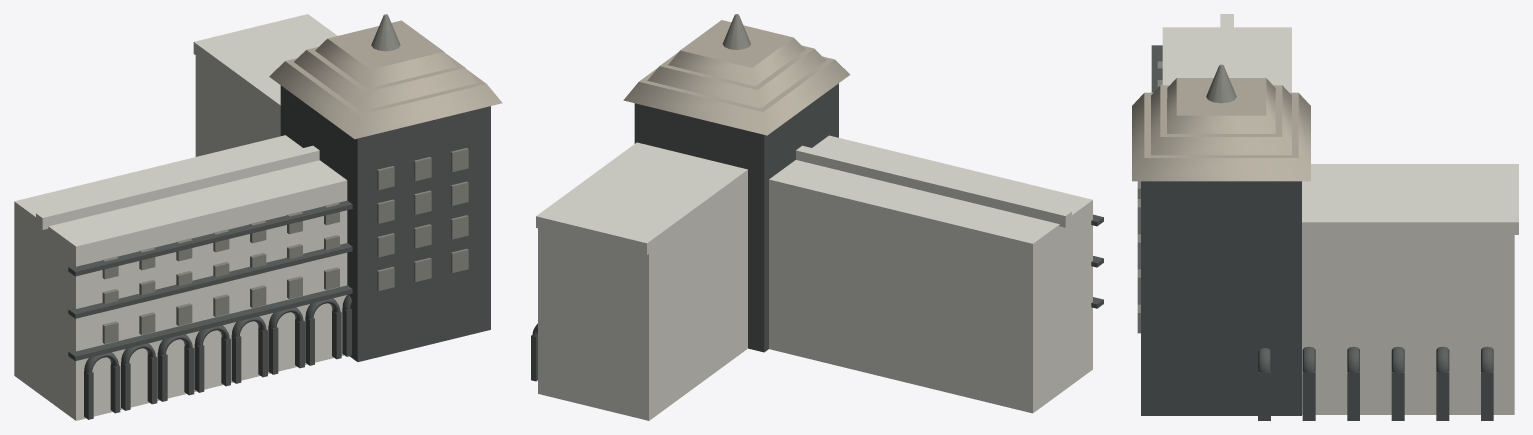
File: eu-court.glb
The picture shows the model from 3 angles, left to right: view 1: azimuth 30°, elevation 25°; view 2: azimuth 150°, elevation 25°; view 3: azimuth 270°, elevation 25°; orthographic projection. The views are drawn at different scales.
Visible parts, largest first — view 1: stamford-road-wing/form, corner-tower/form, roof-parapets/form (×2), corner-pavilion-roof/roof-tier-0, hill-street-wing/form, corner-pavilion-roof/roof-tier-2, corner-pavilion-roof/roof-tier-1, projecting-ledges/ledge-0, projecting-ledges/ledge-2, projecting-ledges/ledge-1, corner-pavilion-roof/finial, ground-arcades/stamford-arch-5-left (+14 smaller); view 2: stamford-road-wing/form, hill-street-wing/form, roof-parapets/form (×2), corner-tower/form, corner-pavilion-roof/roof-tier-0, corner-pavilion-roof/roof-tier-2, corner-pavilion-roof/roof-tier-1, corner-pavilion-roof/finial; view 3: corner-tower/form, hill-street-wing/form, roof-parapets/form (×2), corner-pavilion-roof/roof-tier-0, stamford-road-wing/form, corner-pavilion-roof/roof-tier-2, corner-pavilion-roof/roof-tier-1, corner-pavilion-roof/finial, ground-arcades/hill-arch-1-right, ground-arcades/hill-arch-3-right, ground-arcades/hill-arch-4-right, ground-arcades/hill-arch-0-right (+3 smaller).
Boxes of the visible parts, x1,y1,x2,y2 form: stamford-road-wing/form: [14, 135, 347, 420]; corner-tower/form: [280, 85, 490, 361]; roof-parapets/form (×2): [36, 14, 337, 229]; corner-pavilion-roof/roof-tier-0: [269, 58, 502, 139]; hill-street-wing/form: [195, 53, 280, 156]; corner-pavilion-roof/roof-tier-2: [315, 20, 456, 88]; corner-pavilion-roof/roof-tier-1: [294, 46, 477, 111]; projecting-ledges/ledge-0: [68, 285, 352, 360]; projecting-ledges/ledge-2: [68, 200, 352, 276]; projecting-ledges/ledge-1: [68, 243, 352, 318]; corner-pavilion-roof/finial: [371, 14, 400, 51]; ground-arcades/stamford-arch-5-left: [268, 325, 278, 374]; stamford-road-wing/form: [769, 135, 1092, 413]; hill-street-wing/form: [538, 181, 747, 420]; roof-parapets/form (×2): [536, 142, 1071, 254]; corner-tower/form: [634, 83, 838, 352]; corner-pavilion-roof/roof-tier-0: [623, 56, 850, 135]; corner-pavilion-roof/roof-tier-2: [668, 20, 805, 86]; corner-pavilion-roof/roof-tier-1: [647, 45, 826, 108]; corner-pavilion-roof/finial: [722, 14, 750, 49]; corner-tower/form: [1141, 181, 1301, 415]; hill-street-wing/form: [1302, 232, 1514, 414]; roof-parapets/form (×2): [1220, 14, 1518, 234]; corner-pavilion-roof/roof-tier-0: [1132, 92, 1310, 181]; stamford-road-wing/form: [1162, 27, 1291, 92]; corner-pavilion-roof/roof-tier-2: [1167, 78, 1275, 133]; corner-pavilion-roof/roof-tier-1: [1151, 85, 1291, 155]; corner-pavilion-roof/finial: [1206, 64, 1236, 103]; ground-arcades/hill-arch-1-right: [1302, 372, 1315, 420]; ground-arcades/hill-arch-3-right: [1391, 372, 1404, 420]; ground-arcades/hill-arch-4-right: [1436, 372, 1449, 420]; ground-arcades/hill-arch-0-right: [1258, 372, 1270, 420].
Bounding box in the file's own units: 17.88 × 12.15 × 13.46.
